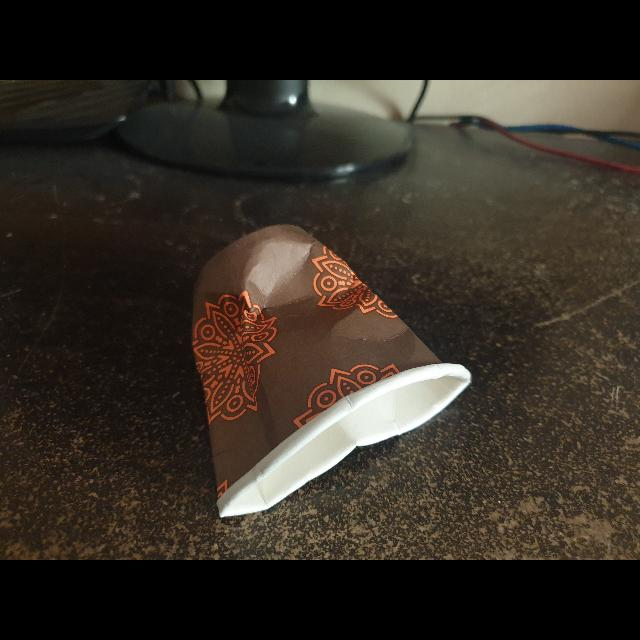trash: (185, 220, 478, 524)
